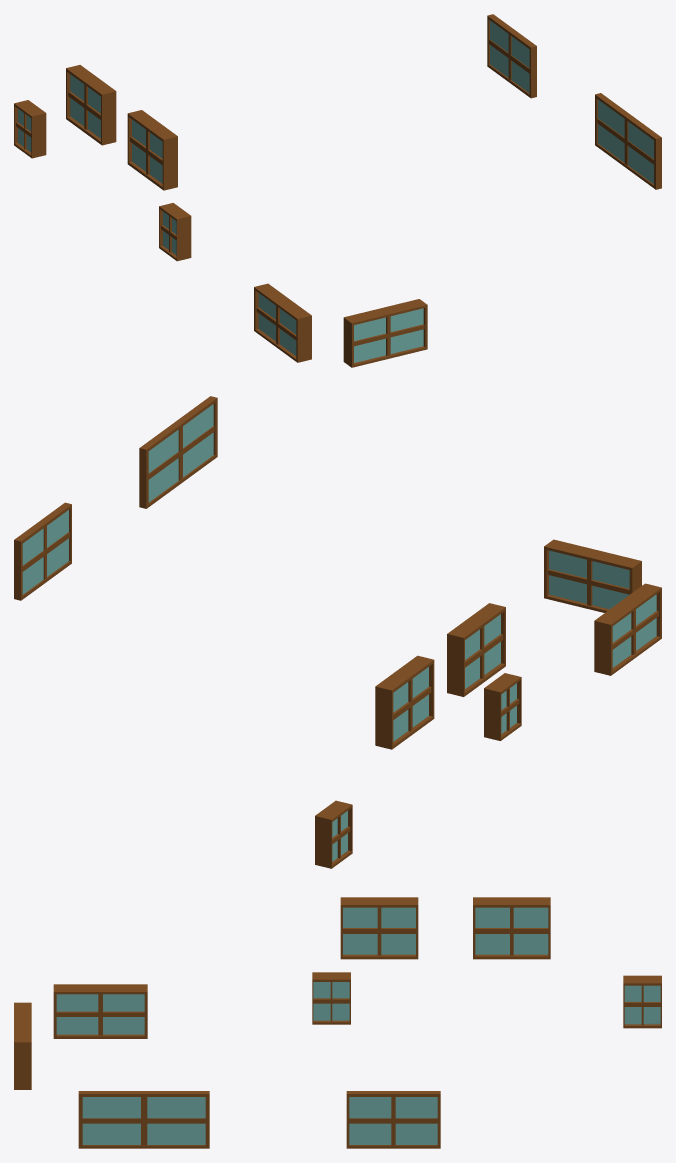
Rendered from VentanasRegular.obj.
3 views of the same model, one above another, from view 1: azimuth 30°, elevation 25°; view 2: azimuth 150°, elevation 25°; view 3: azimuth 270°, elevation 25° (orthographic). The views are drawn at different scales.
Parts seen in each view (by area): view 1: Cube.003_Cube.015; view 2: Cube.003_Cube.015; view 3: Cube.003_Cube.015.
Boxes of the visible parts, left/top/right/bottom form: Cube.003_Cube.015: left=14, top=14, right=661, bottom=367; Cube.003_Cube.015: left=14, top=396, right=661, bottom=868; Cube.003_Cube.015: left=14, top=897, right=661, bottom=1148.
Bounding box in the file's own units: 133 × 42.38 × 185.
1 material, 1 textured.
